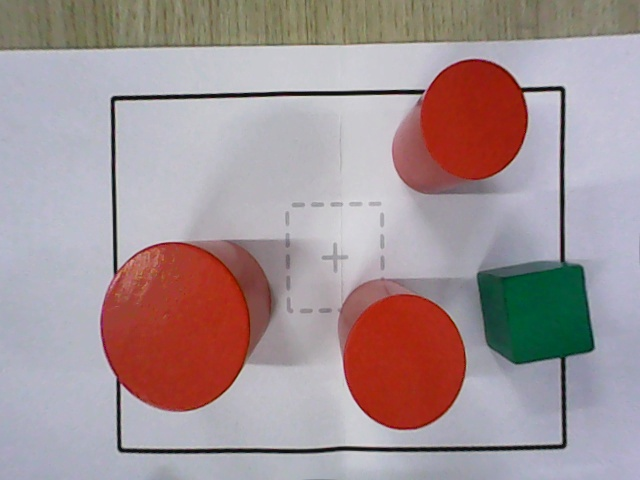upside of cylinder: (100, 243, 250, 412), (343, 296, 464, 430), (420, 58, 527, 179)
upside of small cube: (502, 266, 594, 366)
